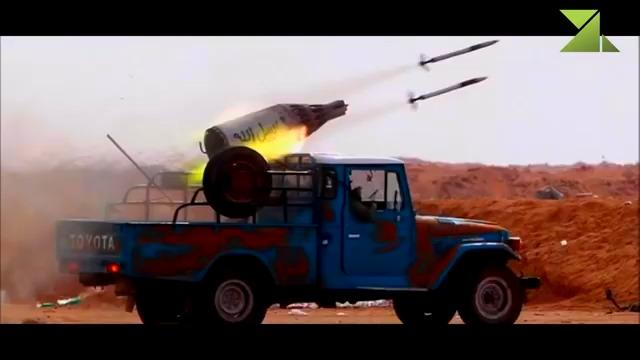MIL_HMMWV: (54, 158, 542, 328)
